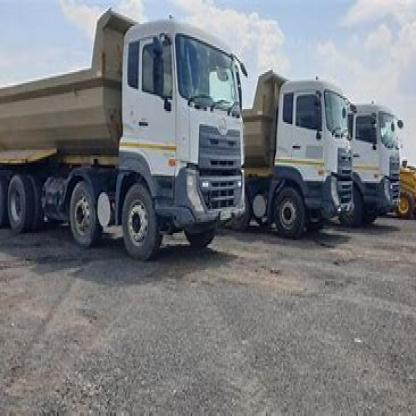dump_truck: (4, 7, 244, 270), (244, 54, 355, 266), (358, 87, 408, 227)
